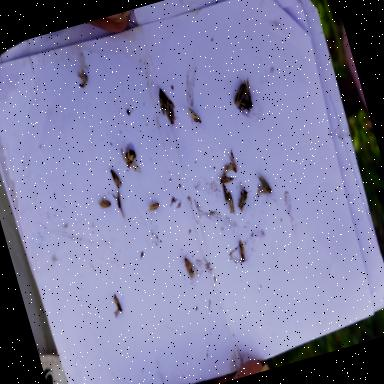pbw: (216, 163, 240, 204), (226, 74, 252, 108), (153, 86, 177, 118), (177, 250, 199, 282), (160, 98, 180, 128), (234, 186, 256, 213), (240, 77, 257, 110), (220, 148, 240, 176), (108, 292, 126, 319), (252, 172, 272, 196), (186, 104, 202, 126), (224, 191, 237, 216), (110, 167, 124, 190), (237, 240, 249, 263), (144, 202, 162, 216), (97, 198, 112, 210), (124, 150, 136, 160)
